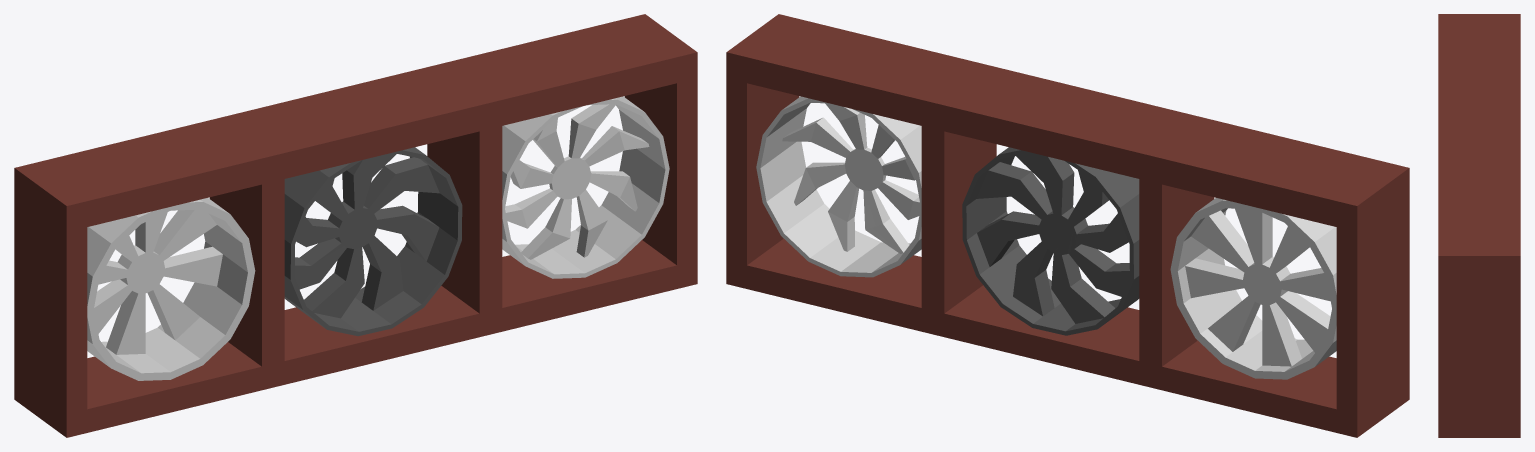
Rendered from Me_Rims_Exhibition_2.fbx.
3 renders of one model, left to right at view 1: azimuth 30°, elevation 25°; view 2: azimuth 150°, elevation 25°; view 3: azimuth 270°, elevation 25°, orthographic. The views are drawn at different scales.
Visible parts, largest first — view 1: Me_Rims_Exhibition_2; view 2: Me_Rims_Exhibition_2; view 3: Me_Rims_Exhibition_2.
Boxes of the visible parts, left/top/right/bottom form: Me_Rims_Exhibition_2: left=14, top=14, right=697, bottom=437; Me_Rims_Exhibition_2: left=726, top=14, right=1409, bottom=437; Me_Rims_Exhibition_2: left=1438, top=14, right=1520, bottom=437.
Bounding box in the file's own units: 1502 × 216 × 528.
